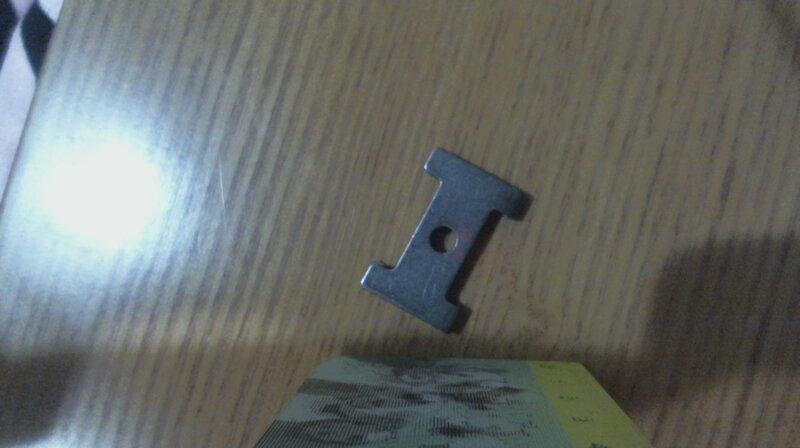O002: (358, 144, 531, 334)
